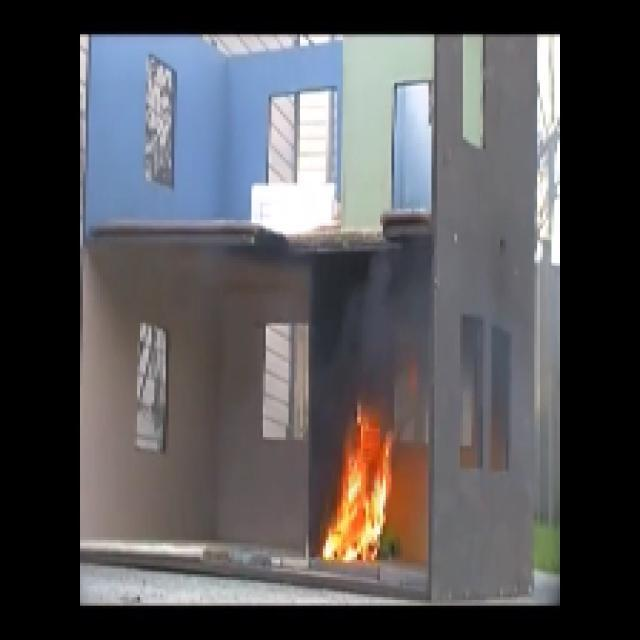Fire: (334, 433, 392, 563)
Smoke: (347, 266, 422, 374)
